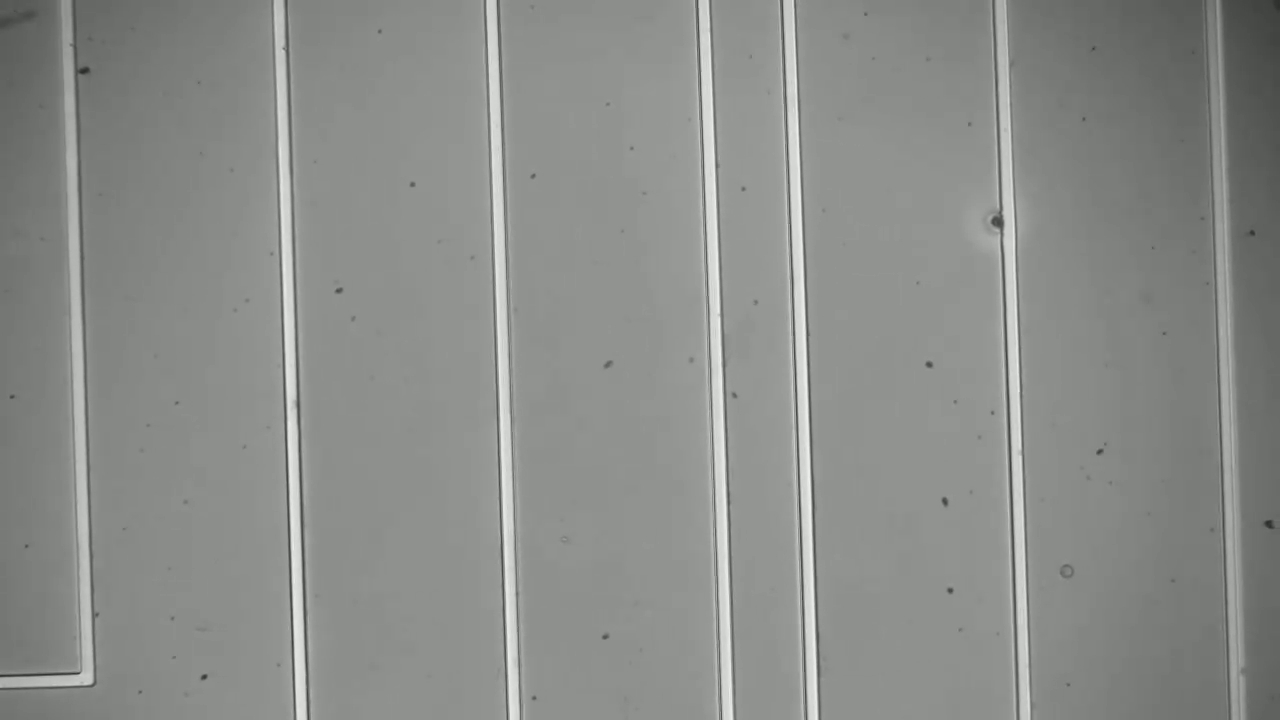stains_enbedded: (988, 201, 1022, 242)
